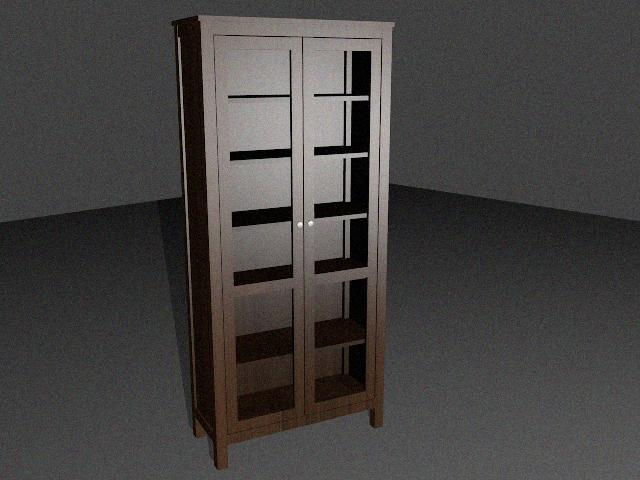cabinet_door: (220, 36, 302, 425), (303, 38, 378, 406)
handle: (294, 218, 304, 231), (306, 218, 316, 231)
